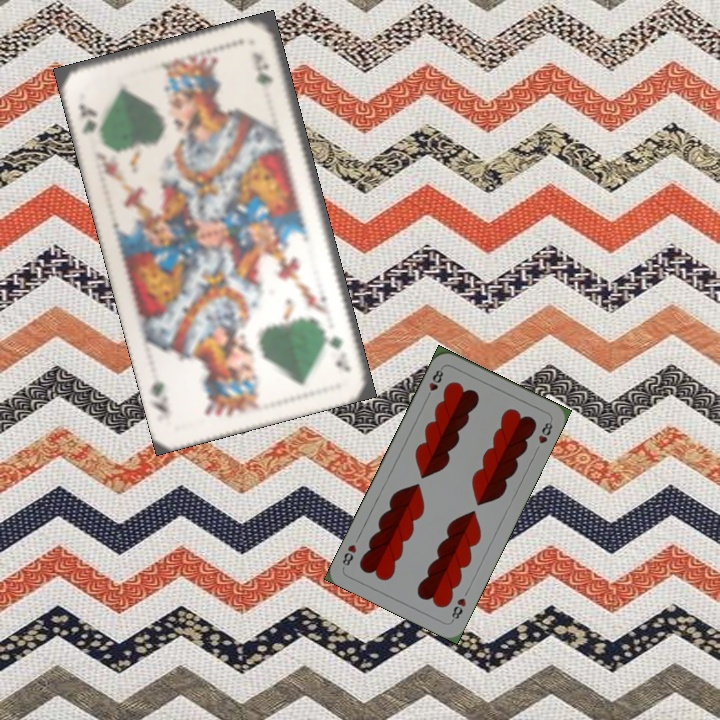GK: (326, 331, 353, 374), (74, 100, 100, 138)
H8: (422, 364, 446, 402), (447, 594, 469, 624)
